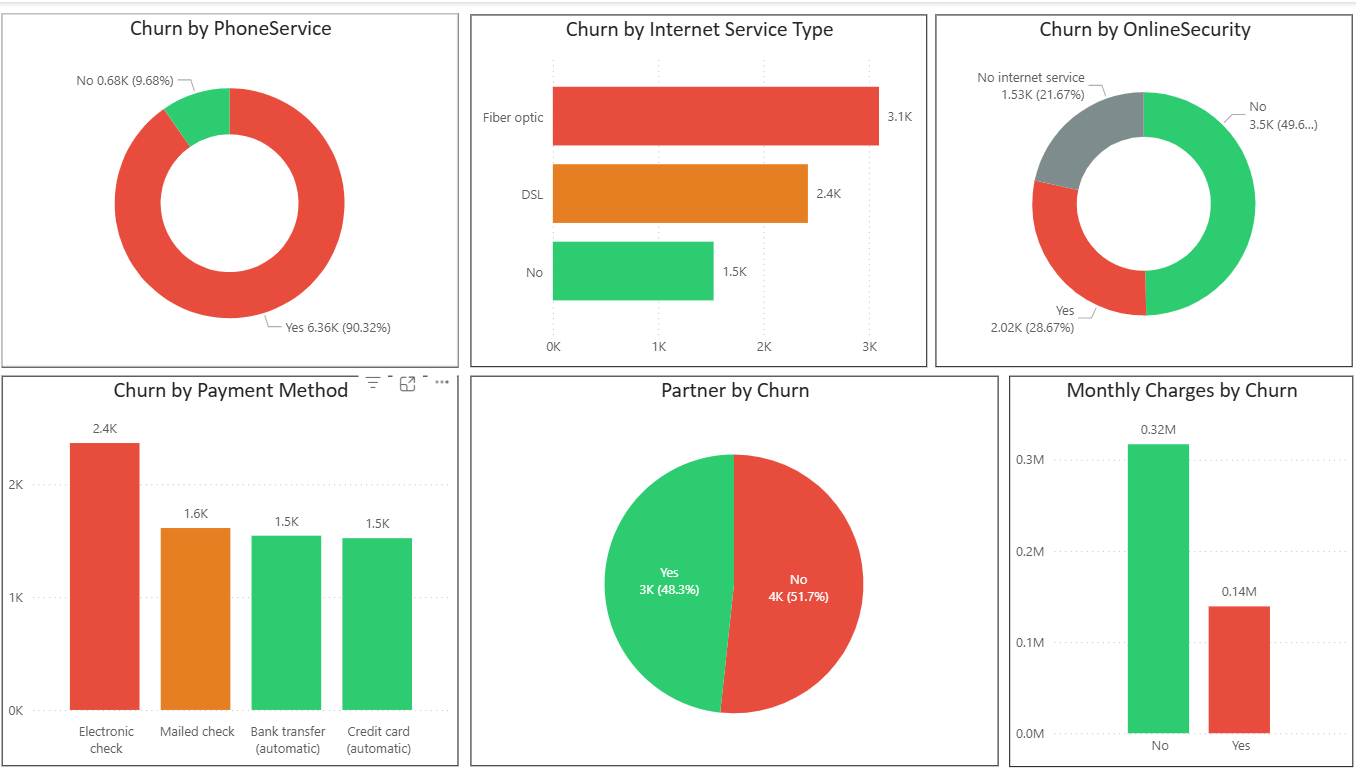

This screenshot's page, from the dashboard's own definition file:
{"tool":"powerbi","page":{"name":"Page 2","canvas":[1280,720],"ordinal":1},"visuals":[{"type":"clusteredBarChart","title":"Churn by Internet Service Type","fields":{"Y":["CountNonNull(Telco-Customer-Churn dataset.Churn)"],"Category":["Telco-Customer-Churn dataset.InternetService"]},"box":[448.5,11.3,424.7,328.2],"z":0},{"type":"columnChart","title":"Churn by Payment Method","fields":{"Category":["Telco-Customer-Churn dataset.PaymentMethod"],"Y":["CountNonNull(Telco-Customer-Churn dataset.Churn)"]},"box":[12.5,348.2,424.7,363.3],"z":1000},{"type":"clusteredColumnChart","title":"Monthly Charges by Churn","fields":{"Category":["Telco-Customer-Churn dataset.Churn"],"Y":["Sum(Telco-Customer-Churn dataset.MonthlyCharges)"]},"box":[950,347.7,319.8,364],"z":2000},{"type":"donutChart","title":"Churn by PhoneService","fields":{"Y":["CountNonNull(Telco-Customer-Churn dataset.Churn)"],"Category":["Telco-Customer-Churn dataset.PhoneService"]},"box":[12.5,10,424.7,329.5],"z":3000},{"type":"pieChart","title":"Partner by Churn","fields":{"Y":["CountNonNull(Telco-Customer-Churn dataset.Churn)"],"Category":["Telco-Customer-Churn dataset.Partner"]},"box":[448.5,348.2,491.1,363.3],"z":4000},{"type":"donutChart","title":"Churn by OnlineSecurity","fields":{"Y":["CountNonNull(Telco-Customer-Churn dataset.Churn)"],"Category":["Telco-Customer-Churn dataset.OnlineSecurity"]},"box":[881.9,11.3,388.3,328.2],"z":5000}]}

Visuals, with their boxes in screenshot pixels (x1, y1, x2, y2), scaled from the page's 1280x720 canvas onto the 1356x771 screenshot:
"Churn by Internet Service Type" clusteredBarChart: crop(475, 12, 925, 364)
"Churn by Payment Method" columnChart: crop(13, 373, 463, 762)
"Monthly Charges by Churn" clusteredColumnChart: crop(1006, 372, 1345, 762)
"Churn by PhoneService" donutChart: crop(13, 11, 463, 364)
"Partner by Churn" pieChart: crop(475, 373, 995, 762)
"Churn by OnlineSecurity" donutChart: crop(934, 12, 1346, 364)
